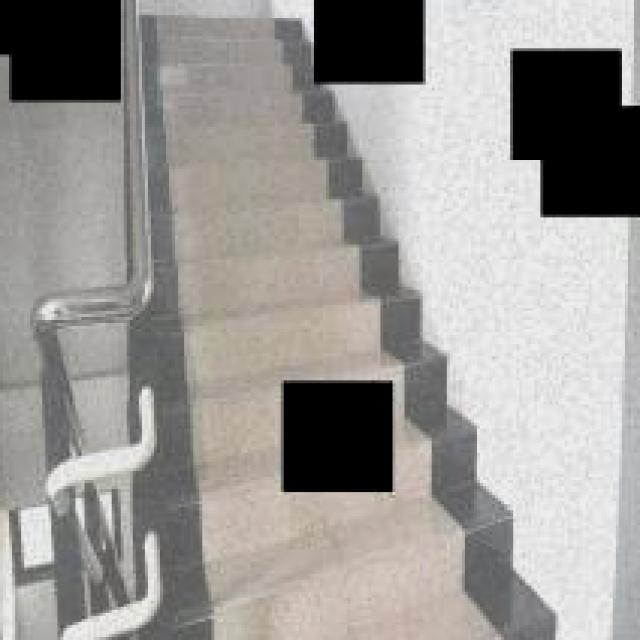upstair: (146, 101, 414, 342)
